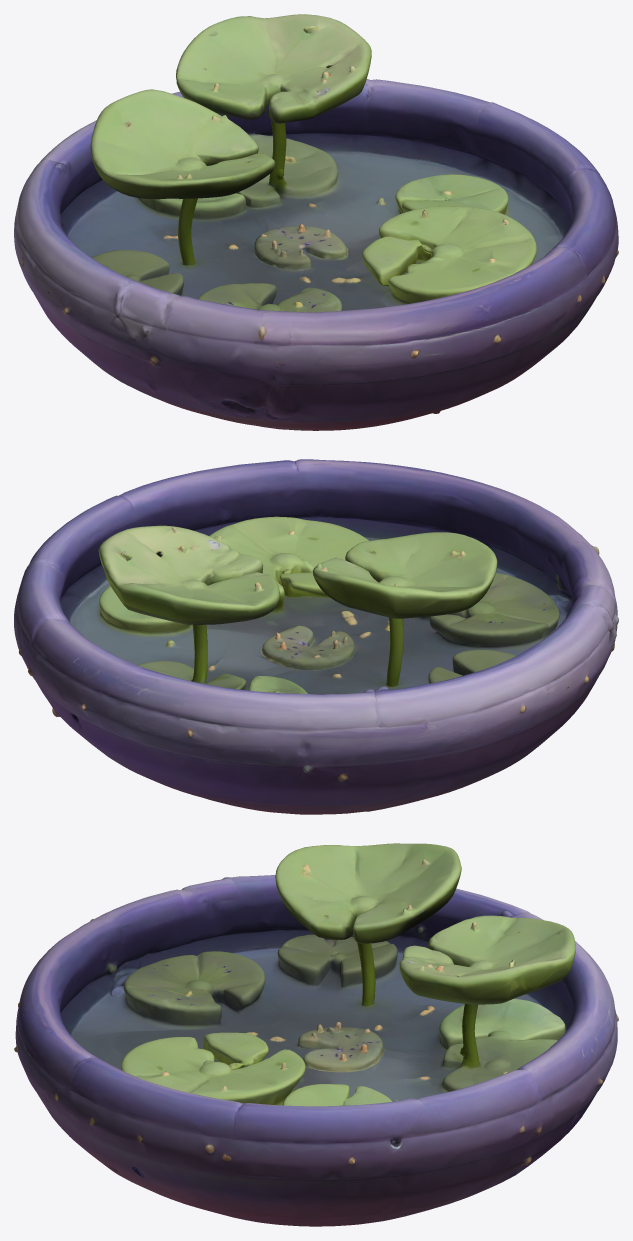
The model's file is nature-pond.glb.
3 views of the same model, one above another, from view 1: azimuth 30°, elevation 25°; view 2: azimuth 150°, elevation 25°; view 3: azimuth 270°, elevation 25° (orthographic).
Parts seen in each view (by area): view 1: tripo_node_28e3cb8d-dfaa-439d-b1d1-9ffa048e458e; view 2: tripo_node_28e3cb8d-dfaa-439d-b1d1-9ffa048e458e; view 3: tripo_node_28e3cb8d-dfaa-439d-b1d1-9ffa048e458e.
Part boxes in pixels (left/top/right/bottom): tripo_node_28e3cb8d-dfaa-439d-b1d1-9ffa048e458e: left=14, top=14, right=618, bottom=430; tripo_node_28e3cb8d-dfaa-439d-b1d1-9ffa048e458e: left=14, top=459, right=618, bottom=814; tripo_node_28e3cb8d-dfaa-439d-b1d1-9ffa048e458e: left=14, top=843, right=618, bottom=1226.
Size of the model in its own units: 0.2099 by 0.1 by 0.2104.
Materials: 1 (1 with a texture image).
